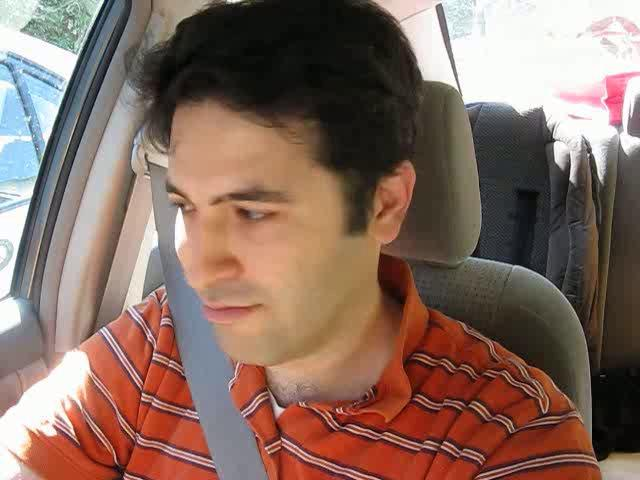close_eyeL: (156, 189, 201, 228)
close_eyeR: (218, 188, 299, 238)
no_yawn: (173, 286, 281, 344)
